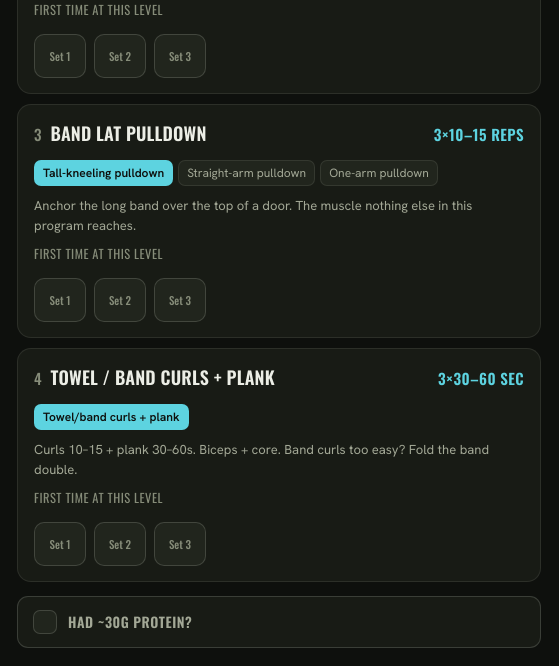
Test: Today — set logging error paths › shows the protein check every morning (before any workout) and persists a tap
(page scrolled)
Click the button "Had ~30g protein?": (130,622) 17,596 -> 541,648
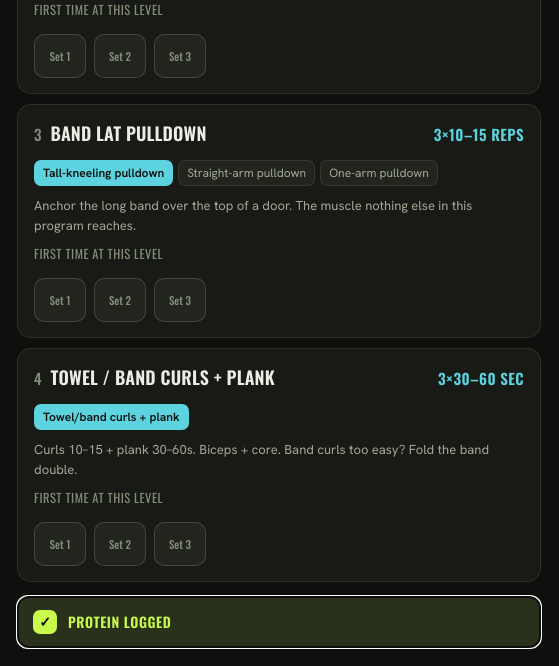
Expected: the text "Protein logged" is shown, 68,611 -> 171,632
